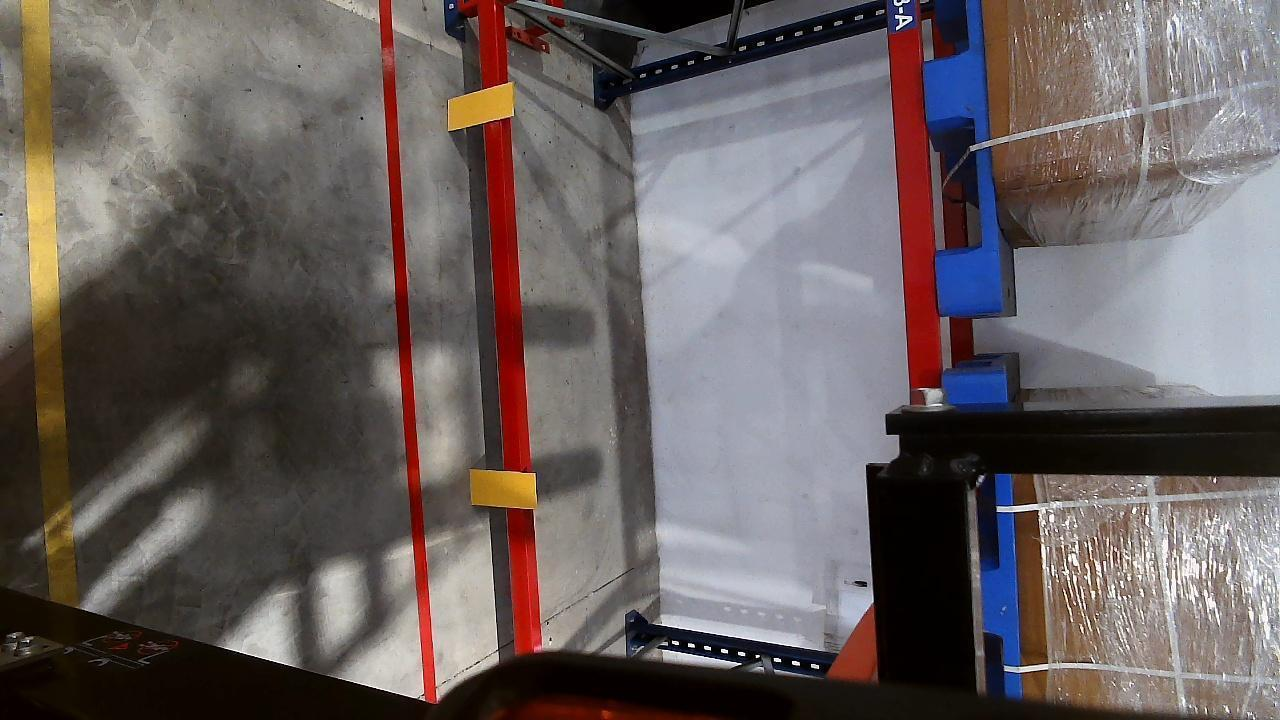red_line: (381, 0, 444, 684)
yellow_line: (18, 0, 74, 605)
